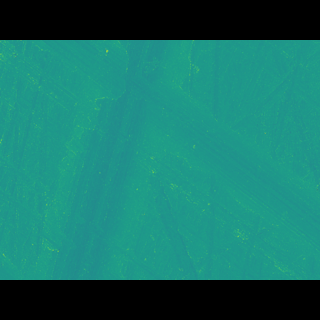Loch: (34, 69, 320, 230), (0, 155, 170, 250)
